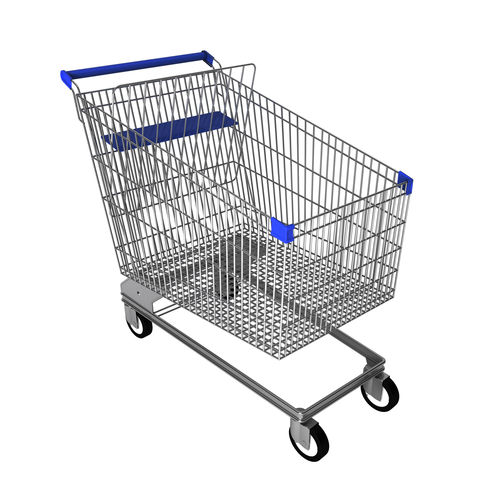with_basket: (63, 46, 421, 457)
